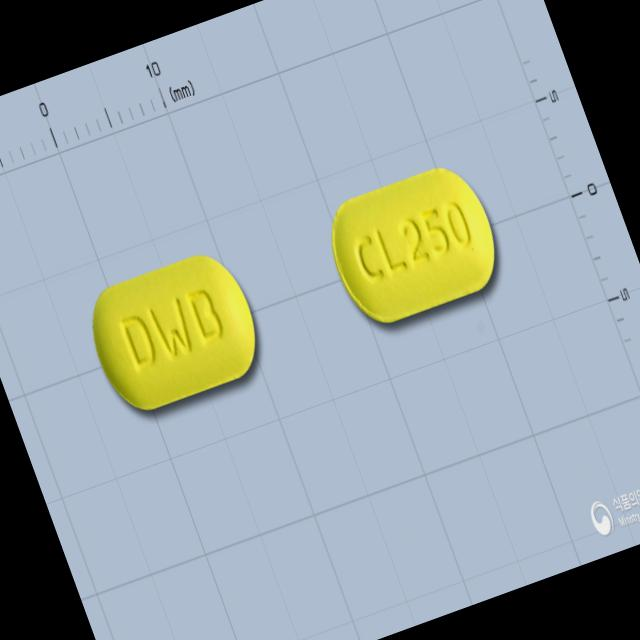Daewoong Clarithromycin: (77, 243, 273, 421), (317, 155, 511, 334)
